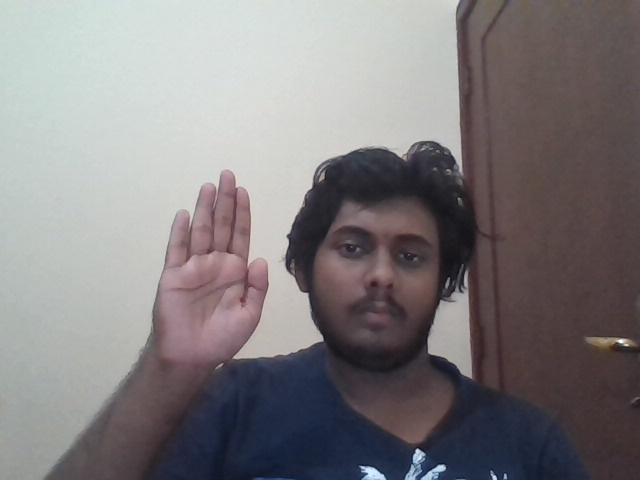hello: (151, 169, 270, 370)
